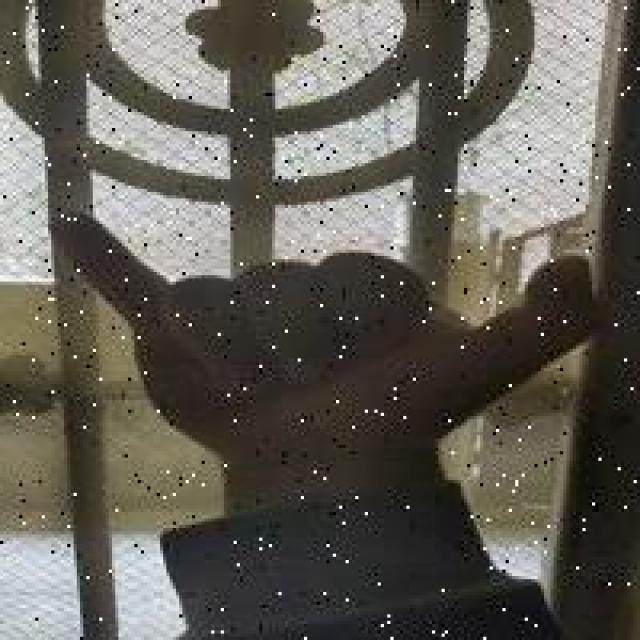Y: (33, 194, 622, 488)
